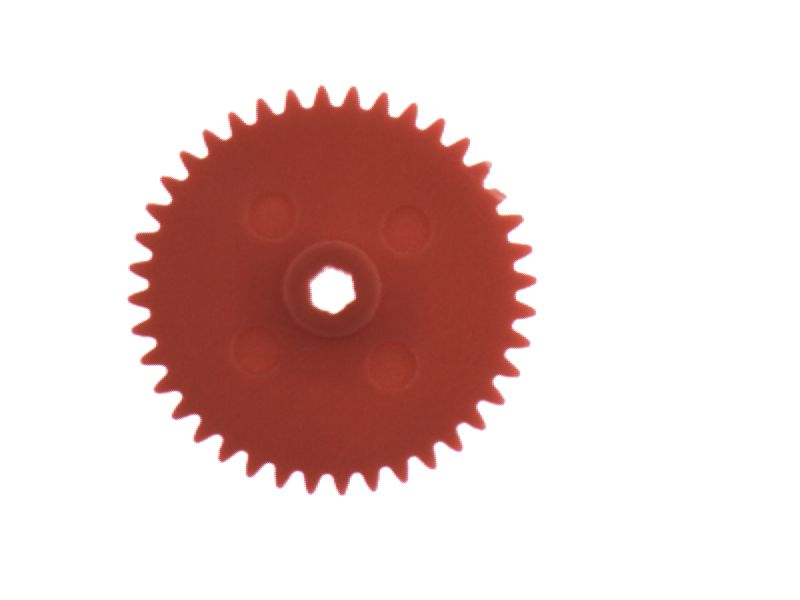defect_break: (476, 171, 520, 222)
